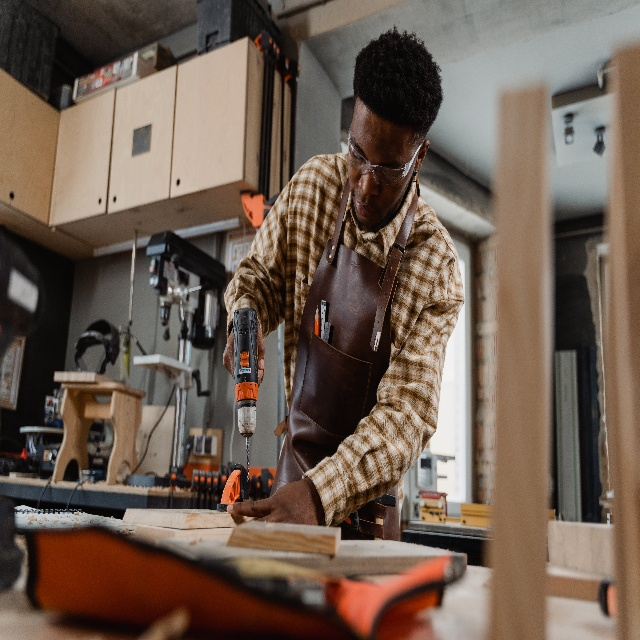Gafas: (347, 123, 425, 182)
Sin_guantes: (229, 482, 321, 526), (222, 322, 266, 384)
